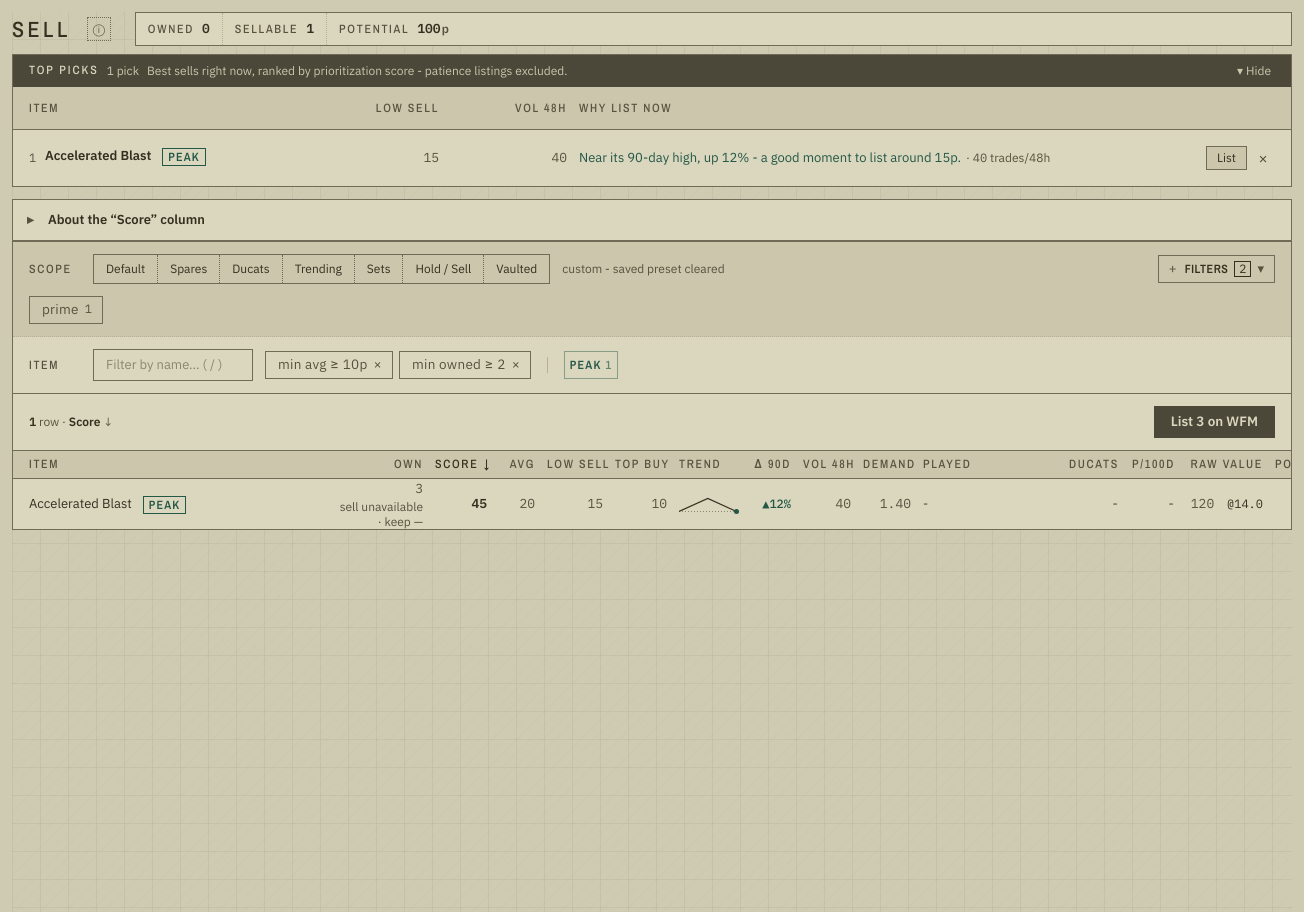
Test: SellPane › toggles a tag chip through the bindable activeTags
Click the button "prime 1" at (66, 310), box [29,296,103,324]
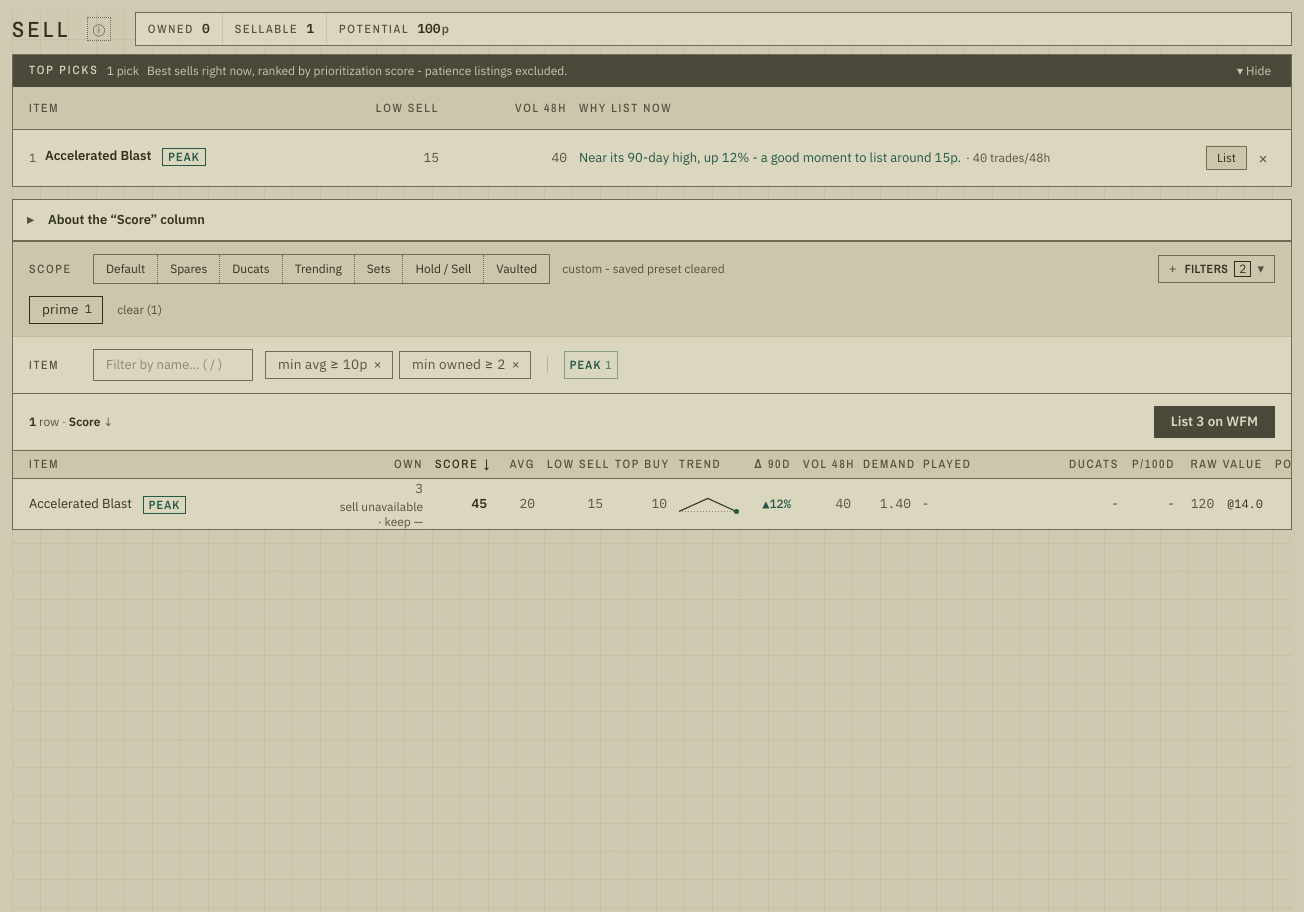
Expected: the button "clear (1)" is shown, [109,298,170,322]
